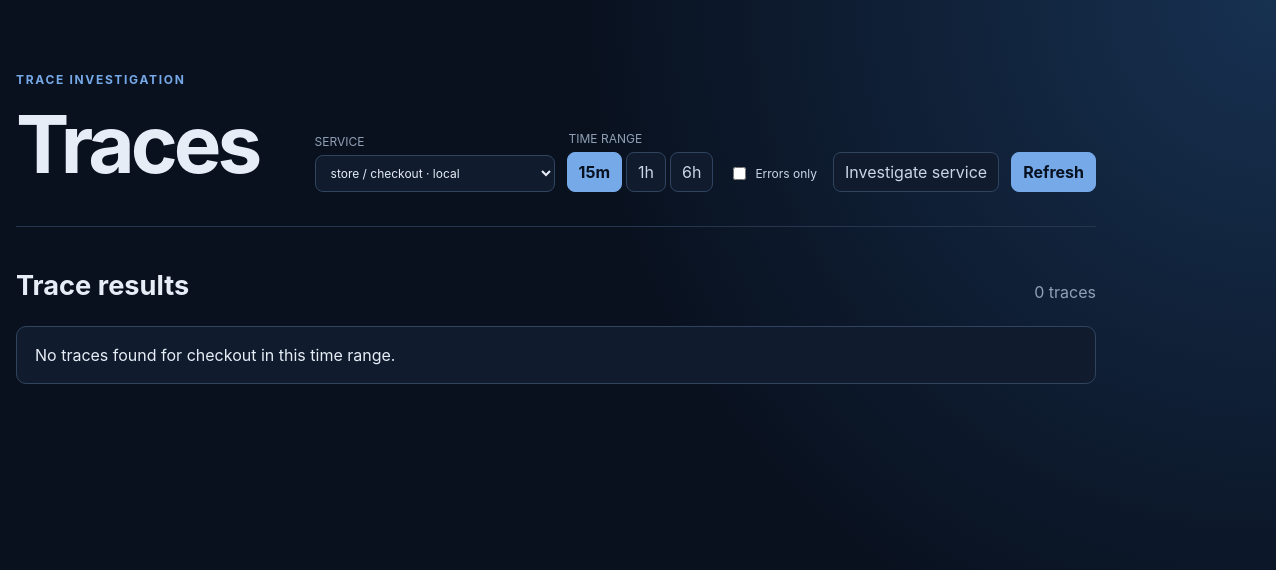
Test case: Trace search › shows a selected-service empty result and sends the optional error filter
Expected: the text "No traces found for checkout in this time range." is shown, 16,326 -> 1096,384
Click the checkbox labelled "Errors only" at (740, 174), box 733,167 -> 746,180
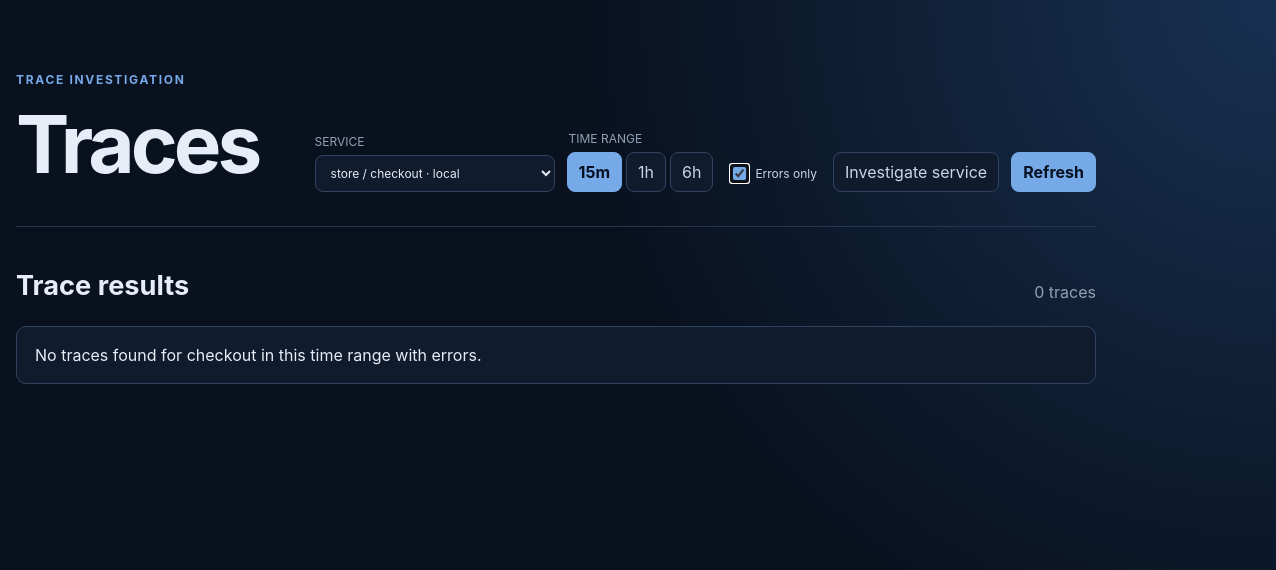
Expected: the text "No traces found for checkout in this time range with errors." is shown, 16,326 -> 1096,384
